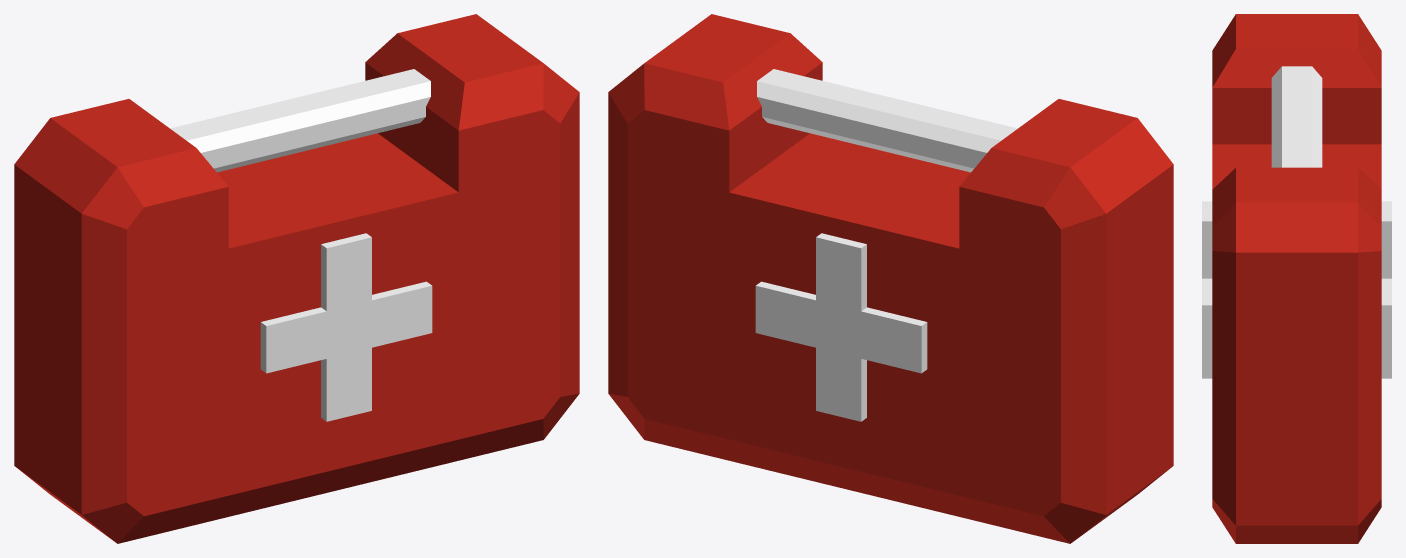
File: aidKit.glb
3 renders of one model, left to right at view 1: azimuth 30°, elevation 25°; view 2: azimuth 150°, elevation 25°; view 3: azimuth 270°, elevation 25°, orthographic. The views are drawn at different scales.
Parts seen in each view (by area): view 1: mesh_aidkit_01; view 2: mesh_aidkit_01; view 3: mesh_aidkit_01.
Boxes of the visible parts, x1,y1,x2,y2 form: mesh_aidkit_01: (14, 14, 579, 543); mesh_aidkit_01: (608, 14, 1173, 543); mesh_aidkit_01: (1202, 14, 1391, 543).
Size of the model in its own units: 0.4402 by 0.3181 by 0.1602.
1 material, 1 textured.
